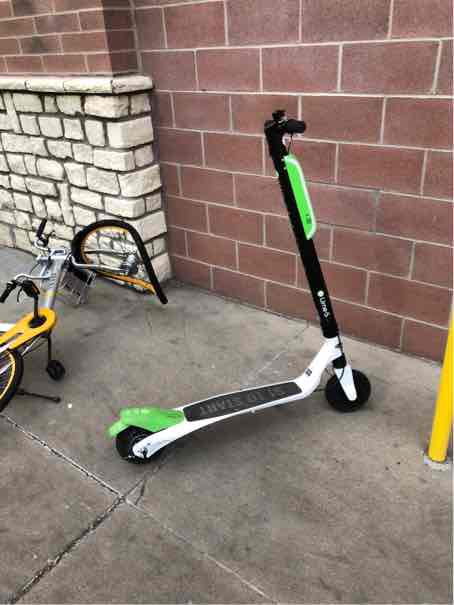scooter: (107, 89, 378, 473)
